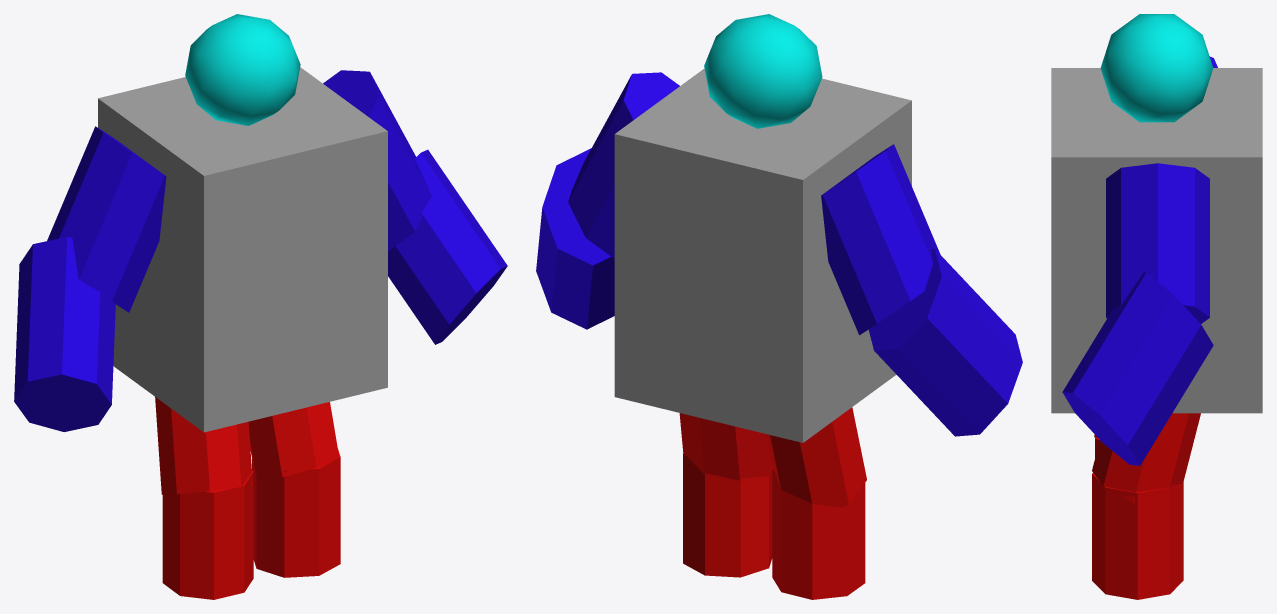
Rendered from Starter_Dude.fbx.
3 views of the same model, side by side, from view 1: azimuth 30°, elevation 25°; view 2: azimuth 150°, elevation 25°; view 3: azimuth 270°, elevation 25° (orthographic). The views are drawn at different scales.
Parts seen in each view (by area): view 1: Body, Forearm.R, Bicep.R, Forearm.L, Head, Calf.R, Calf.L, Thigh.R, Bicep.L, Thigh.L; view 2: Body, Forearm.R, Bicep.R, Head, Calf.R, Calf.L, Forearm.L, Thigh.R, Bicep.L, Thigh.L; view 3: Body, Forearm.L, Bicep.L, Calf.L, Head, Thigh.L.
Part boxes in pixels (x1,y1,x2,y2): Body: (98, 67, 387, 432); Forearm.R: (14, 237, 115, 431); Bicep.R: (47, 126, 166, 312); Forearm.L: (388, 149, 507, 344); Head: (185, 14, 300, 125); Calf.R: (162, 470, 253, 599); Calf.L: (252, 449, 340, 577); Thigh.R: (155, 397, 252, 494); Bicep.L: (323, 70, 431, 250); Thigh.L: (248, 402, 339, 481); Body: (614, 68, 911, 442); Forearm.R: (868, 248, 1022, 436); Bicep.R: (821, 144, 940, 335); Head: (704, 14, 822, 128); Calf.R: (772, 467, 865, 599); Calf.L: (683, 453, 772, 577); Forearm.L: (536, 148, 614, 329); Thigh.R: (766, 407, 866, 507); Bicep.L: (568, 72, 679, 258); Thigh.L: (679, 413, 772, 480); Body: (1051, 68, 1262, 413); Forearm.L: (1062, 272, 1213, 465); Bicep.L: (1106, 163, 1209, 323); Calf.L: (1092, 473, 1183, 599); Head: (1100, 14, 1213, 122); Thigh.L: (1092, 413, 1200, 503).
Bounding box in the file's own units: 384 × 424 × 150.
